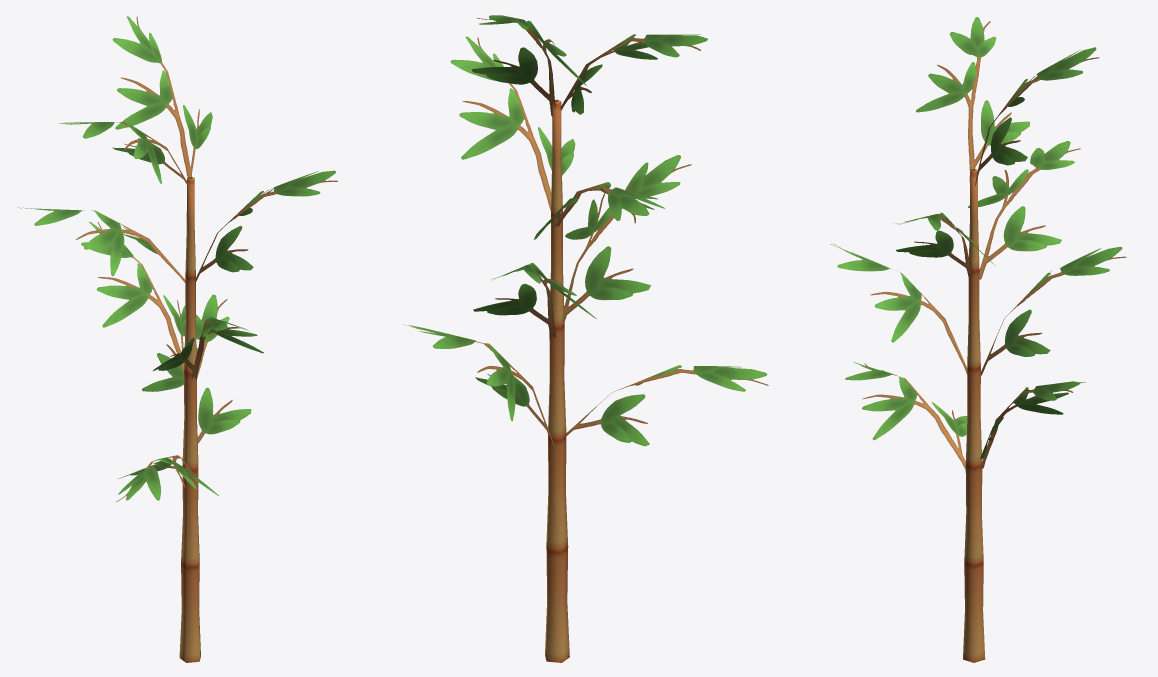
Rendered from Ctn_bamboo_01_v01.FBX.
3 renders of one model, left to right at view 1: azimuth 30°, elevation 25°; view 2: azimuth 150°, elevation 25°; view 3: azimuth 270°, elevation 25°, orthographic. The views are drawn at different scales.
Visible parts, largest first — view 1: Ctn_bamboo_01_v01; view 2: Ctn_bamboo_01_v01; view 3: Ctn_bamboo_01_v01.
Part boxes in pixels (x1,y1,x2,y2): Ctn_bamboo_01_v01: (18,16,337,662); Ctn_bamboo_01_v01: (404,15,768,662); Ctn_bamboo_01_v01: (830,17,1126,662).
Size of the model in its own units: 75.18 by 146 by 73.3.
